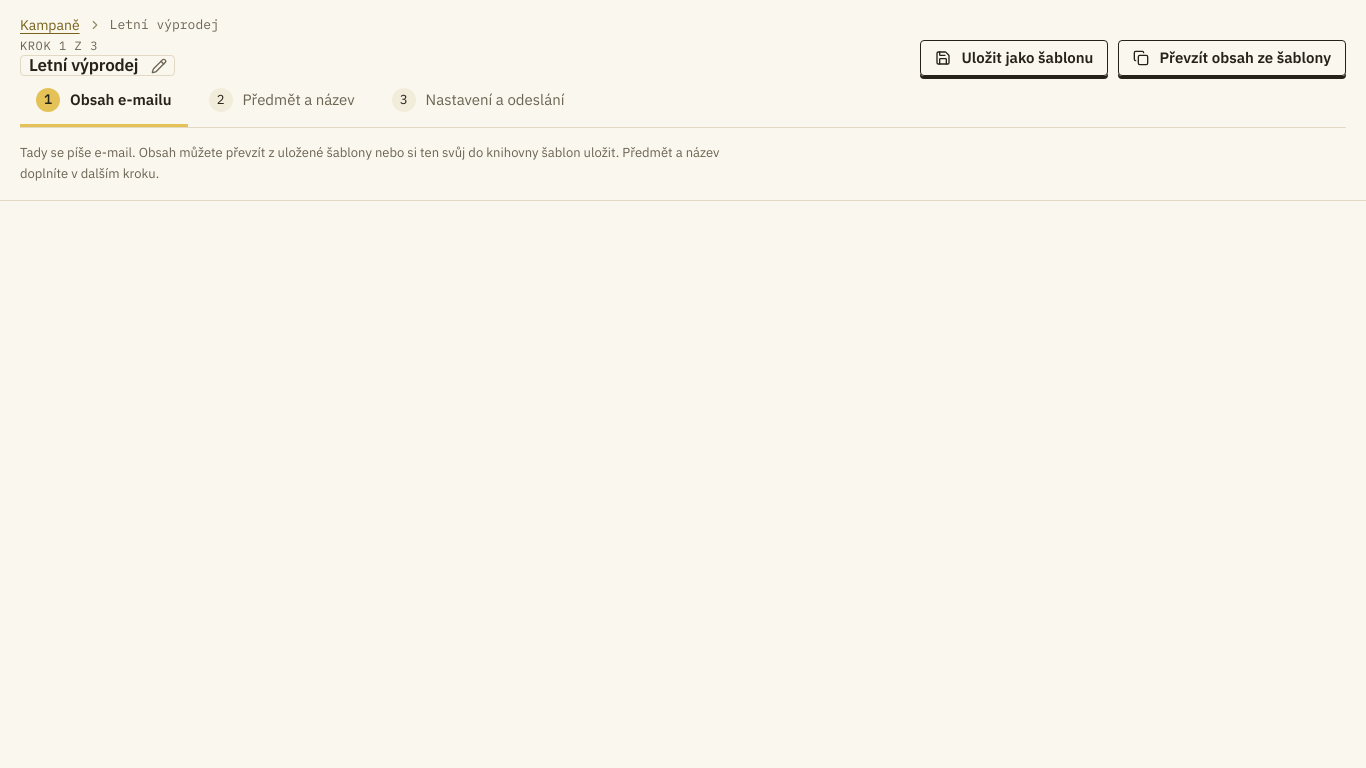
Scenario: editor jako krok 1 kampaně › u krátké knihovny nabídka hledání nemá
Click the button with test id "use-library-open": (1232, 58) [1118,40,1346,76]
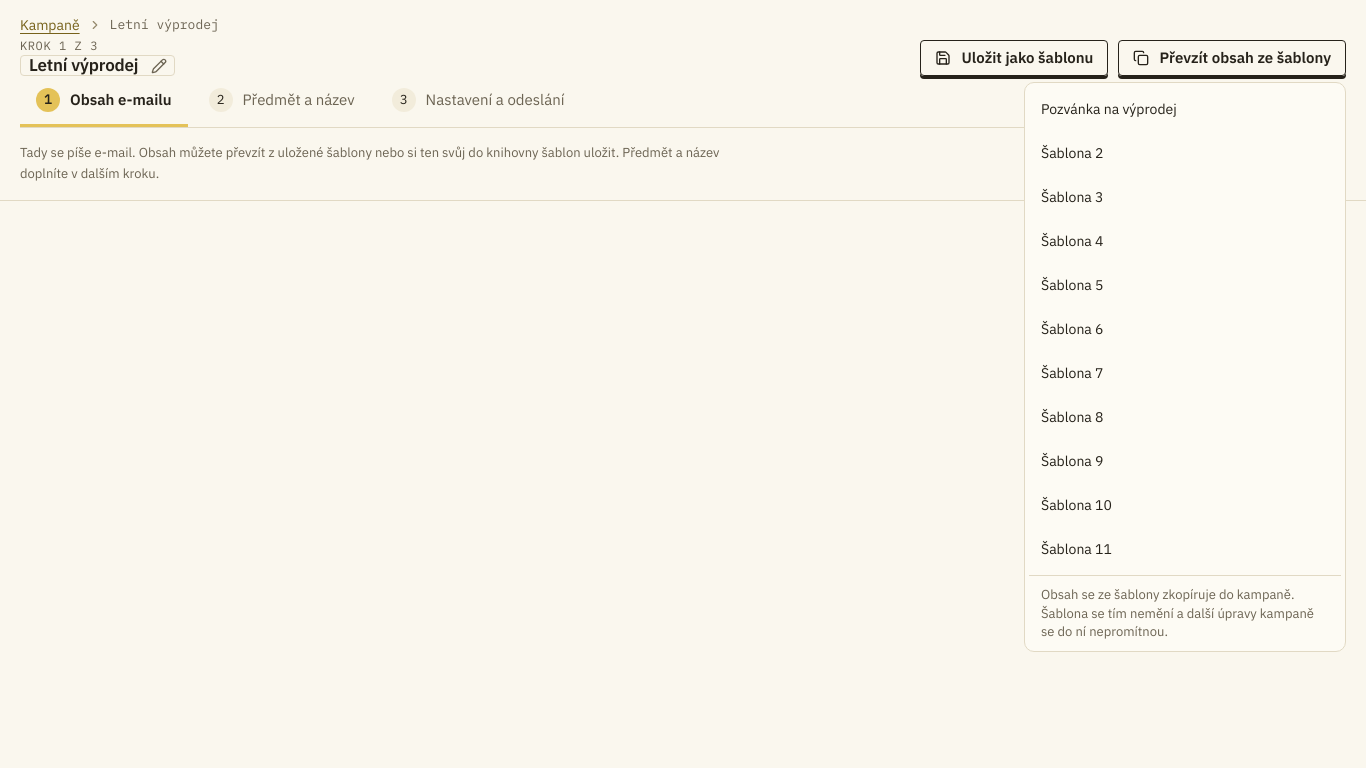
Check: the number of menu items is 11
